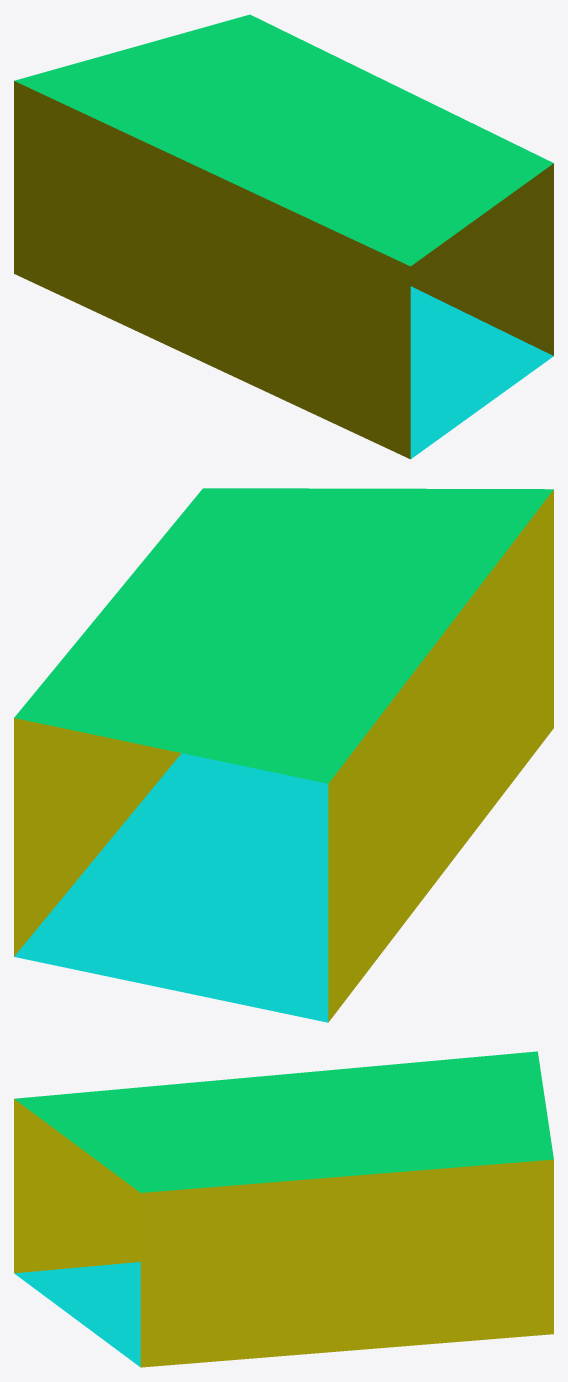
Rendered from NeutralR-Corridor-JapaneseR.fbx.
3 renders of one model, top to bottom at view 1: azimuth 30°, elevation 25°; view 2: azimuth 150°, elevation 25°; view 3: azimuth 270°, elevation 25°, orthographic. The views are drawn at different scales.
Visible parts, largest first — view 1: Museum_complete_Blockout:Corridor3; view 2: Museum_complete_Blockout:Corridor3; view 3: Museum_complete_Blockout:Corridor3.
Boxes of the visible parts, x1,y1,x2,y2 form: Museum_complete_Blockout:Corridor3: [14, 14, 553, 459]; Museum_complete_Blockout:Corridor3: [14, 488, 553, 1022]; Museum_complete_Blockout:Corridor3: [14, 1051, 553, 1367].
Bounding box in the file's own units: 1789 × 1029 × 2884.
